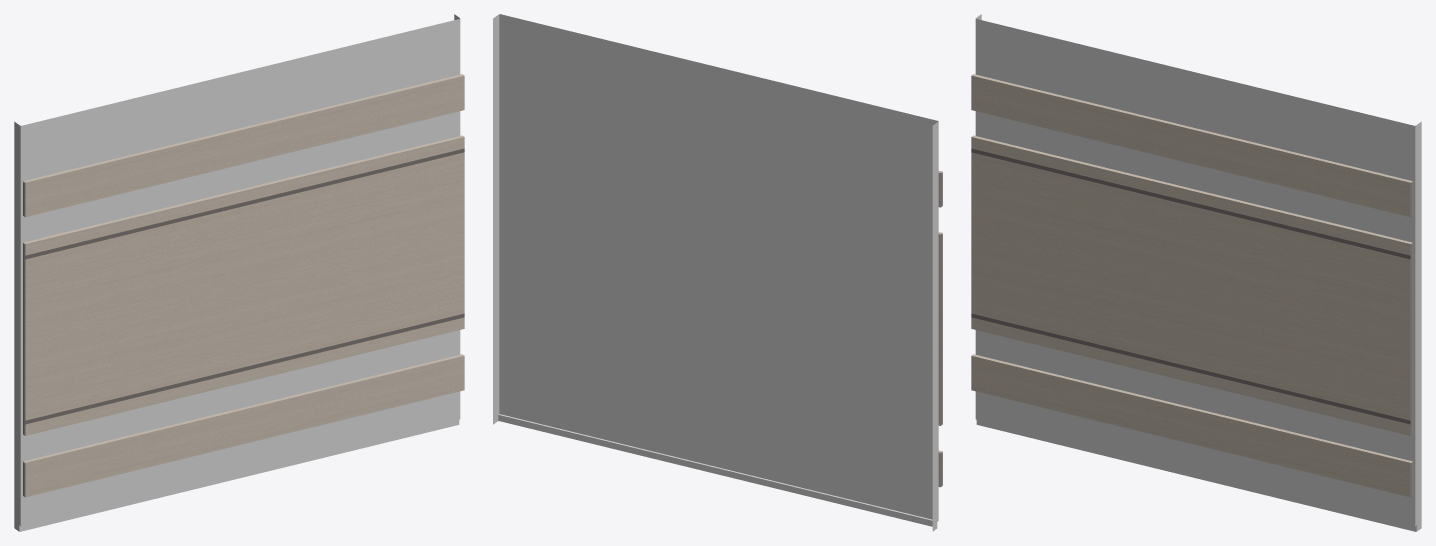
File: MMo_W_001_a_12x10.fbx
The picture shows the model from 3 angles, left to right: view 1: azimuth 30°, elevation 25°; view 2: azimuth 150°, elevation 25°; view 3: azimuth 330°, elevation 25°; orthographic projection.
Visible parts, largest first — view 1: MMo_W_001_a_12x10; view 2: MMo_W_001_a_12x10; view 3: MMo_W_001_a_12x10.
Boxes of the visible parts, left/top/right/bottom form: MMo_W_001_a_12x10: left=14, top=14, right=464, bottom=531; MMo_W_001_a_12x10: left=493, top=14, right=942, bottom=531; MMo_W_001_a_12x10: left=971, top=14, right=1421, bottom=531.
Bounding box in the file's own units: 12 × 10.6 × 0.5002.
